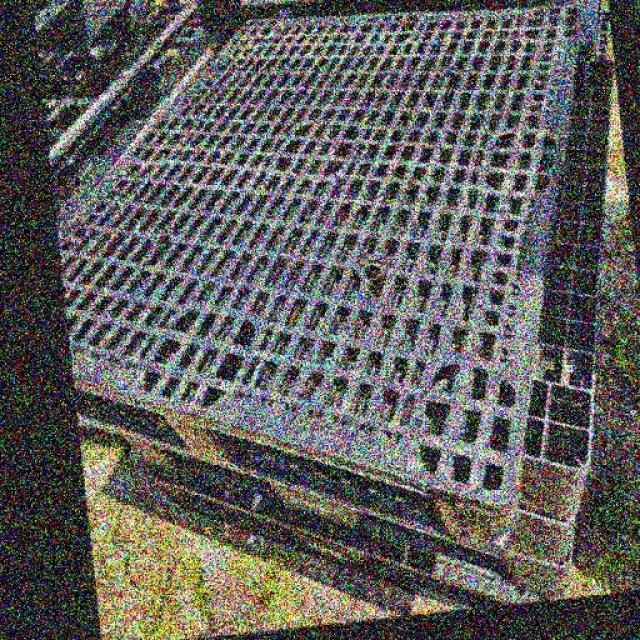non-igps: (48, 0, 638, 639), (101, 418, 581, 613), (140, 465, 552, 622)
